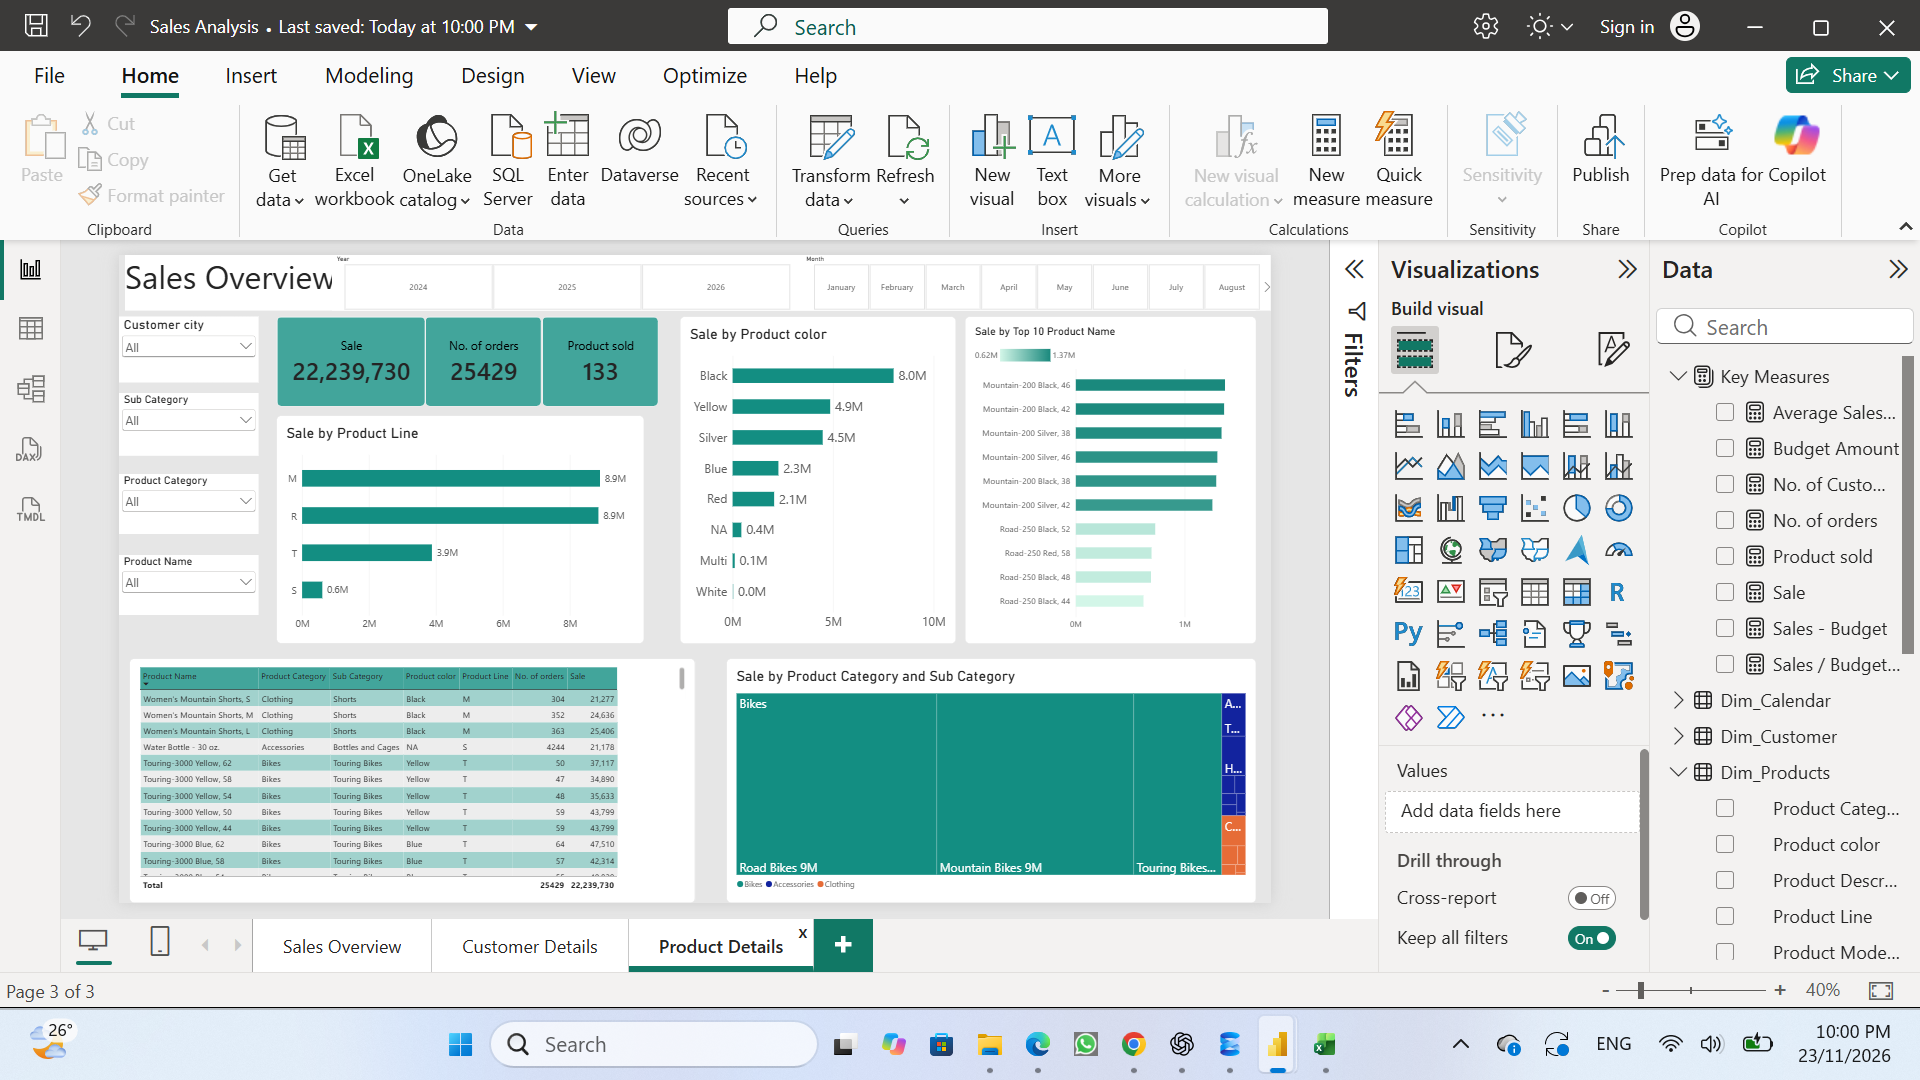

What the dashboard file says about the page in this screenshot:
{"tool":"powerbi","page":{"name":"Product Details","canvas":[1920,1080],"ordinal":2},"visuals":[{"type":"textbox","box":[10,0,280,280],"z":0},{"type":"textbox","box":[10,0,1884.2,92.5],"z":1000},{"type":"slicer","fields":{"Values":["Dim_Customer.Customer city"]},"box":[0,102.5,232.4,110],"z":2000},{"type":"slicer","fields":{"Values":["Dim_Products.Sub Category"]},"box":[0,229.9,232.4,105],"z":3000},{"type":"slicer","fields":{"Values":["Dim_Products.Product Category"]},"box":[0,364.8,232.4,100],"z":4000},{"type":"slicer","fields":{"Values":["Dim_Products.Product Name"]},"box":[0,499.8,232.4,100],"z":5000},{"type":"slicer","fields":{"Values":["Dim_Calendar.Year"]},"box":[354.8,0,782.2,92.5],"z":6000},{"type":"slicer","fields":{"Values":["Dim_Calendar.Month"]},"box":[1137,0,782.2,92.5],"z":7000},{"type":"barChart","title":"Sale by Top 10 Product Name","fields":{"Category":["Dim_Products.Product Name"],"Y":["Key Measures.Sale"]},"box":[1410,102.5,485,545],"z":14000},{"type":"cardVisual","fields":{"Data":["Key Measures.Sale"]},"box":[262,102,248,150],"z":15001},{"type":"cardVisual","fields":{"Data":["Key Measures.No. of orders"]},"box":[510,102,194,150],"z":15002},{"type":"cardVisual","fields":{"Data":["Key Measures.Product sold"]},"box":[704,102,194,150],"z":15003},{"type":"treemap","fields":{"Details":["Dim_Products.Sub Category"],"Group":["Dim_Products.Product Category"],"Values":["Key Measures.Sale"]},"box":[1012.5,672.5,882.5,407.5],"z":15004},{"type":"clusteredBarChart","fields":{"Category":["Dim_Products.Product color"],"Y":["Key Measures.Sale"]},"box":[935,102.5,460,545],"z":15005},{"type":"clusteredBarChart","fields":{"Category":["Dim_Products.Product Line"],"Y":["Key Measures.Sale"]},"box":[262.5,267.5,612.5,380],"z":15006},{"type":"tableEx","fields":{"Values":["Dim_Products.Product Name","Dim_Products.Product Category","Dim_Products.Sub Category","Dim_Products.Product color","Dim_Products.Product Line","Key Measures.No. of orders","Key Measures.Sale"]},"box":[17.5,672.5,942.5,407.5],"z":15007}]}

Visuals, with their boxes on the page's 1920x1080 design canvas (x1, y1, x2, y2). These are canvas units, not pixel positions in the 1920x1080 screenshot, which may show the page scaled, cropped or inside an application window:
textbox: x1=10, y1=0, x2=290, y2=280
textbox: x1=10, y1=0, x2=1894, y2=92
slicer - Dim_Customer.Customer city: x1=0, y1=102, x2=232, y2=212
slicer - Dim_Products.Sub Category: x1=0, y1=230, x2=232, y2=335
slicer - Dim_Products.Product Category: x1=0, y1=365, x2=232, y2=465
slicer - Dim_Products.Product Name: x1=0, y1=500, x2=232, y2=600
slicer - Dim_Calendar.Year: x1=355, y1=0, x2=1137, y2=92
slicer - Dim_Calendar.Month: x1=1137, y1=0, x2=1919, y2=92
"Sale by Top 10 Product Name" barChart: x1=1410, y1=102, x2=1895, y2=648
cardVisual - Key Measures.Sale: x1=262, y1=102, x2=510, y2=252
cardVisual - Key Measures.No. of orders: x1=510, y1=102, x2=704, y2=252
cardVisual - Key Measures.Product sold: x1=704, y1=102, x2=898, y2=252
treemap - Dim_Products.Sub Category x Dim_Products.Product Category: x1=1012, y1=672, x2=1895, y2=1080
clusteredBarChart - Dim_Products.Product color x Key Measures.Sale: x1=935, y1=102, x2=1395, y2=648
clusteredBarChart - Dim_Products.Product Line x Key Measures.Sale: x1=262, y1=268, x2=875, y2=648
tableEx - Dim_Products.Product Name x Dim_Products.Product Category: x1=18, y1=672, x2=960, y2=1080
